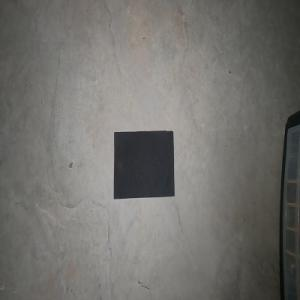PaintChip: (113, 130, 174, 199)
